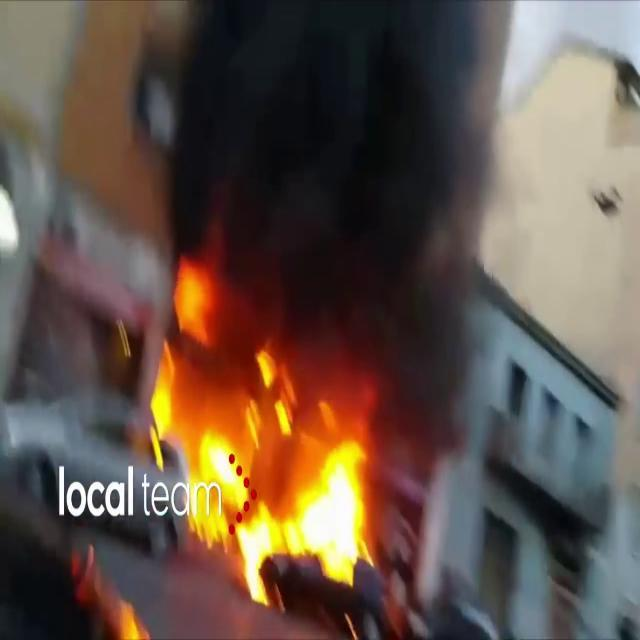Fire: (147, 255, 388, 602)
Smoke: (109, 0, 542, 402)
